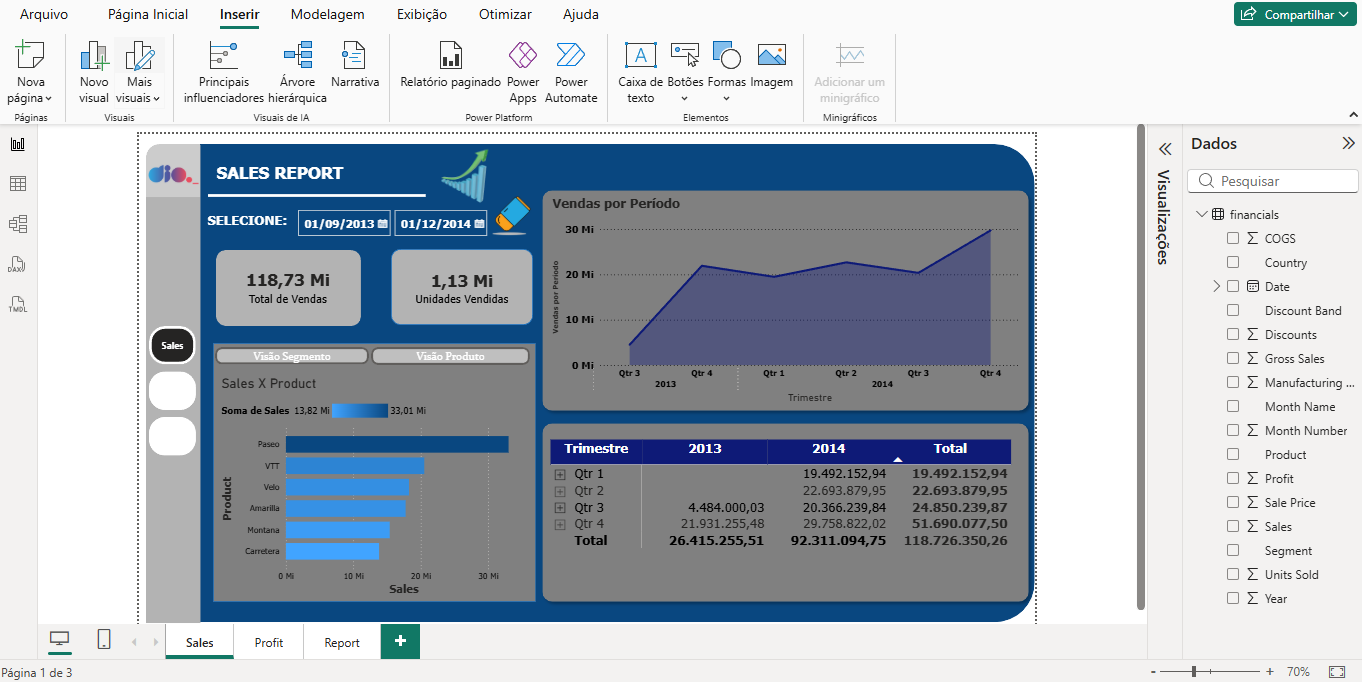

Layout of this report page (visuals, bound fields, positions):
{"tool":"powerbi","page":{"name":"Sales","canvas":[1280,720],"ordinal":0},"visuals":[{"type":"shape","box":[22.9,14.3,1256.7,683.3],"z":0},{"type":"shape","box":[110,164.9,207.1,108.6],"z":0,"group":"g2"},{"type":"shape","box":[10,15,78.3,683.3],"z":1000},{"type":"slicer","fields":{"Values":["financials.Date"]},"box":[214.3,99,292.9,60],"z":1000,"group":"g1"},{"type":"cardVisual","fields":{"Data":["Sum(financials.Sales)"]},"box":[107.1,164.7,211.7,106.7],"z":1000,"group":"g2"},{"type":"shape","box":[359.8,163.9,202.9,108.6],"z":2000,"group":"g2"},{"type":"shape","box":[105.7,298.6,461.4,370],"z":2000},{"type":"textbox","box":[92.9,106.1,135.7,38.6],"z":3000,"group":"g1"},{"type":"cardVisual","fields":{"Data":["Sum(financials.Units Sold)"]},"box":[361.2,165.5,200.8,107.5],"z":3000,"group":"g2"},{"type":"actionButton","title":"Botão - Segmento","box":[108.1,304,220,25],"z":3000},{"type":"shape","box":[10.2,14.6,77.6,76.1],"z":4000},{"type":"actionButton","title":"Botão - Produto","box":[331,304,227.1,25.7],"z":5000},{"type":"shape","box":[98.6,50,311.4,75.7],"z":6000},{"type":"textbox","box":[105.7,35.7,300,45.7],"z":7000},{"type":"shape","box":[567.1,71.4,712.9,332.9],"z":8000},{"type":"areaChart","title":"Vendas por Período","fields":{"Category":["financials.Date.Variation.Hierarquia de datas.Ano","financials.Date.Variation.Hierarquia de datas.Trimestre"],"Y":["Sum(financials.Sales)"]},"box":[585.7,87.1,677.1,302.9],"z":9000},{"type":"image","box":[497.1,87.1,70,60],"z":11000},{"type":"group","id":"g1","title":"Data","box":[92.9,87.1,492.9,71.4],"z":12000},{"type":"clusteredBarChart","title":"Sales X Product","fields":{"Category":["financials.Product"],"Y":["Sum(financials.Sales)"]},"box":[112.9,344.3,454.3,320],"z":12500,"group":"g3"},{"type":"image","box":[394.3,0,138.6,101.4],"z":13000},{"type":"image","box":[11.3,38.7,75.7,38.6],"z":14000},{"type":"group","id":"g2","title":"Grupo 1","box":[107.1,163.9,455.5,109.6],"z":15000},{"type":"group","id":"g3","title":"Grupo 2","box":[112.9,342.9,454.3,321.4],"z":16000},{"type":"shape","box":[567.1,404.3,712.9,272.9],"z":17000},{"type":"pivotTable","fields":{"Columns":["financials.Date.Variation.Hierarquia de datas.Ano"],"Rows":["financials.Date.Variation.Hierarquia de datas.Trimestre","financials.Date.Variation.Hierarquia de datas.Mês"],"Values":["Sum(financials.Sales)"]},"box":[582.9,431.4,682.9,232.9],"z":18000},{"type":"pageNavigator","box":[14.3,274.3,67.1,185.7],"z":18001},{"type":"actionButton","box":[510.5,87.1,75,68.3],"z":25000,"group":"g1"}]}

Visuals, with their boxes on the page's 1280x720 design canvas (x1, y1, x2, y2). These are canvas units, not pixel positions in the 1362x682 screenshot, which may show the page scaled, cropped or inside an application window:
shape: (23,14,1280,698)
shape: (110,165,317,274)
shape: (10,15,88,698)
slicer - financials.Date: (214,99,507,159)
cardVisual - Sum(financials.Sales): (107,165,319,271)
shape: (360,164,563,272)
shape: (106,299,567,669)
textbox: (93,106,229,145)
cardVisual - Sum(financials.Units Sold): (361,166,562,273)
"Botão - Segmento" actionButton: (108,304,328,329)
shape: (10,15,88,91)
"Botão - Produto" actionButton: (331,304,558,330)
shape: (99,50,410,126)
textbox: (106,36,406,81)
shape: (567,71,1280,404)
"Vendas por Período" areaChart: (586,87,1263,390)
image: (497,87,567,147)
"Data" group: (93,87,586,158)
"Sales X Product" clusteredBarChart: (113,344,567,664)
image: (394,0,533,101)
image: (11,39,87,77)
"Grupo 1" group: (107,164,563,274)
"Grupo 2" group: (113,343,567,664)
shape: (567,404,1280,677)
pivotTable - financials.Date.Variation.Hierarquia de datas.Ano x financials.Date.Variation.Hierarquia de datas.Trimestre: (583,431,1266,664)
pageNavigator: (14,274,81,460)
actionButton: (510,87,586,155)
